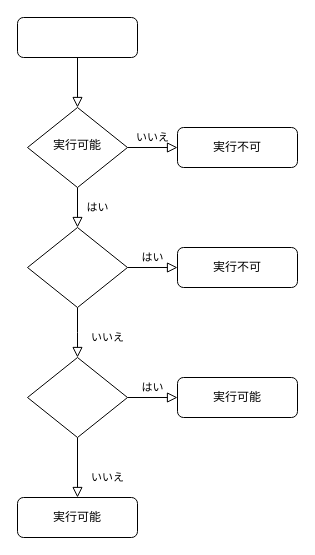
Image size: 315x555. Some labels were removed from this diagram. Each missing label, with the centre of its shape:
バイナリ実行: (x=77, y=37)
無限ループ: (x=77, y=397)
異常終了: (x=77, y=267)
